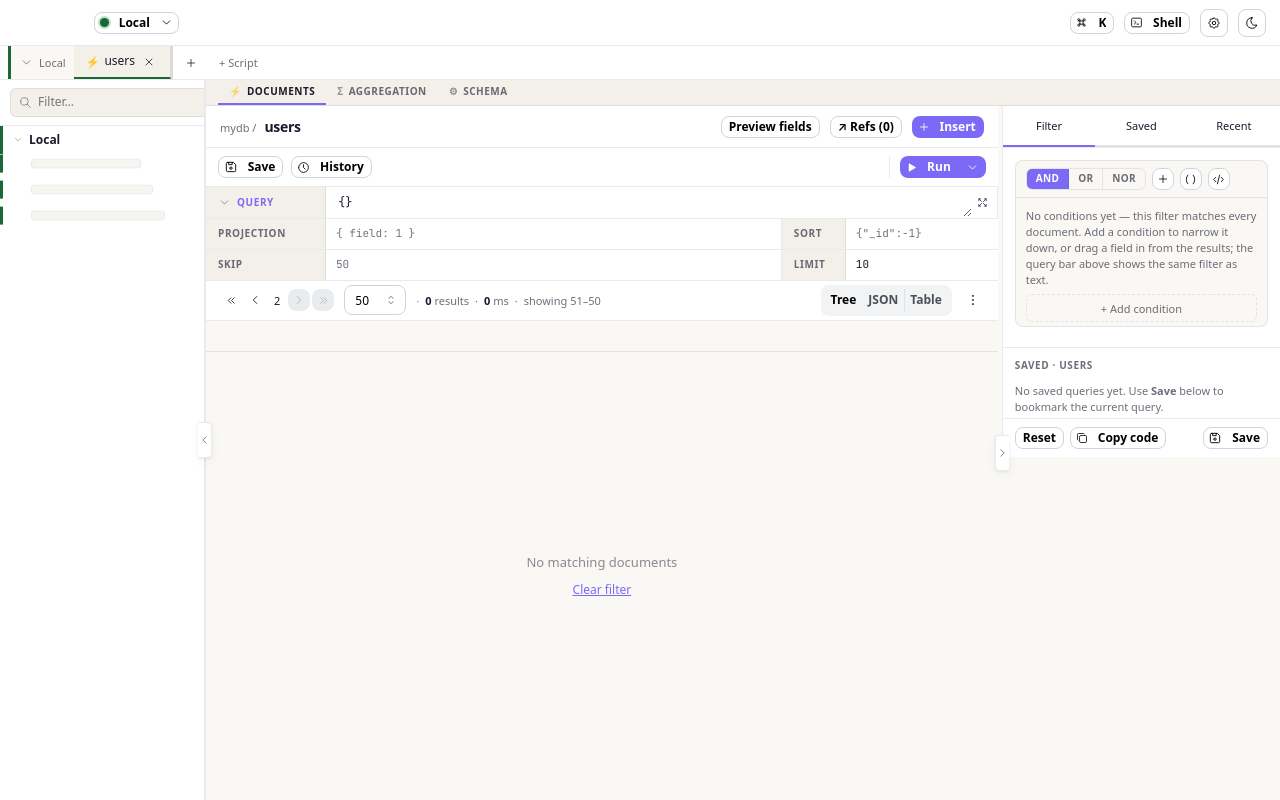
Test case: W15 §1.1 — Copy code reproduces the query as run › refuses to copy when the page is past the limit
The image size is (1280, 800).
Click the button "Copy code" at point(1118, 438), box [1070,427,1166,449]
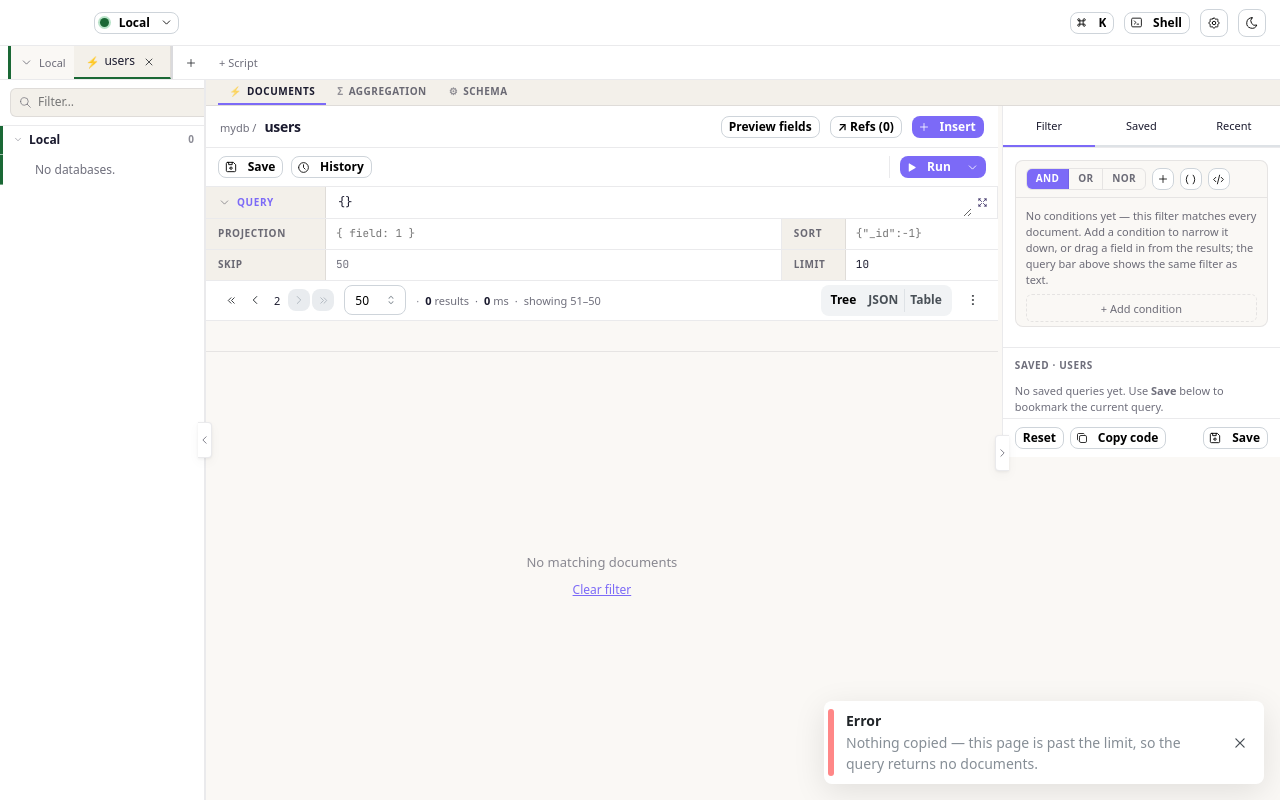
Expected: the text "Nothing copied — this page is past the limit" is shown, [846,733,1181,773]
